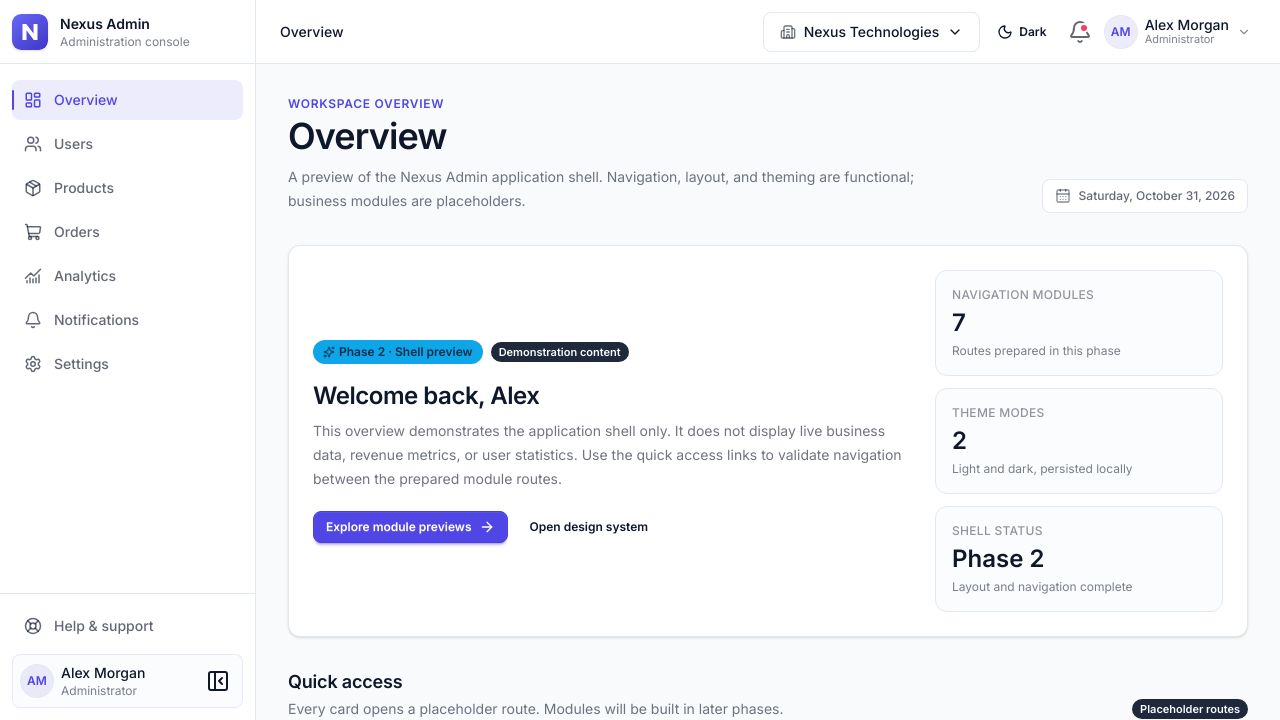
Scenario: DashboardLayout › collapses and expands the desktop sidebar
expect the heading "Overview" is shown: met, box [288,114,447,158]
expect the text "Administration console" is shown: met, box [60,34,190,50]
Click the button named "Collapse sidebar" at (218, 681), box [202,665,234,697]
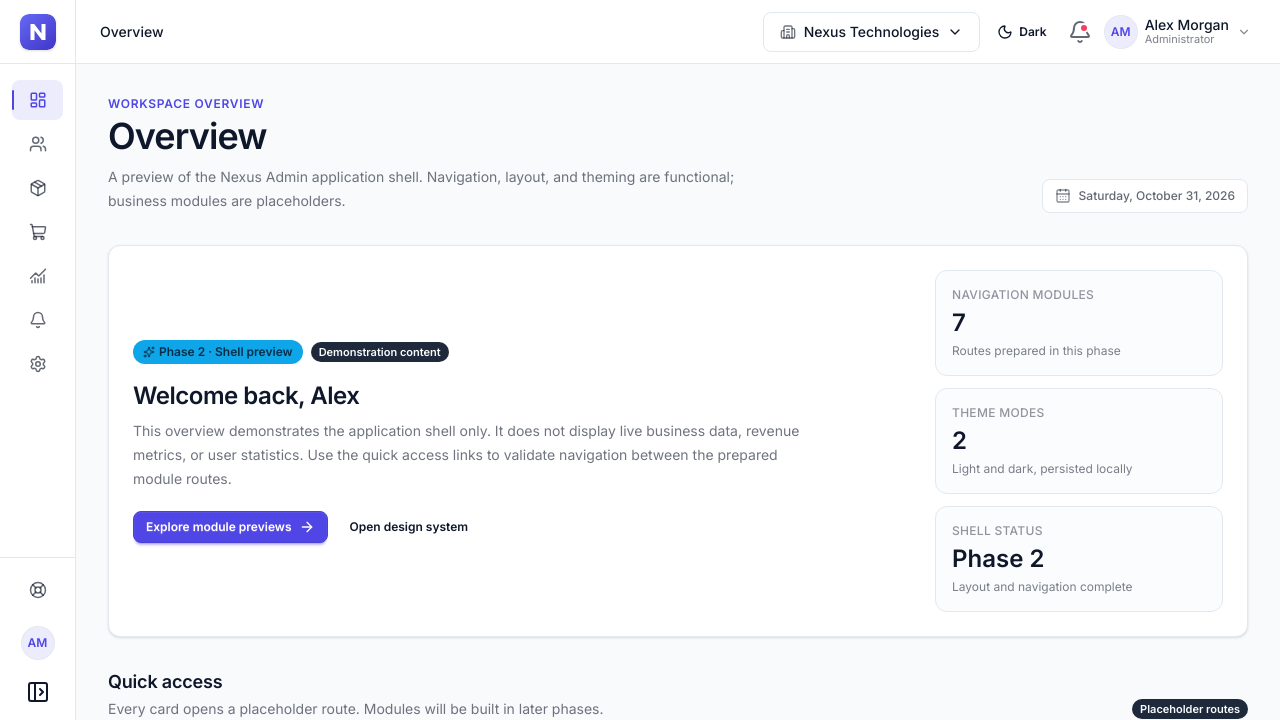
expect the button named "Expand sidebar" is shown: met
expect the text "Administration console" is gone: met
Click the button named "Expand sidebar" at (38, 692), box [12,676,63,708]
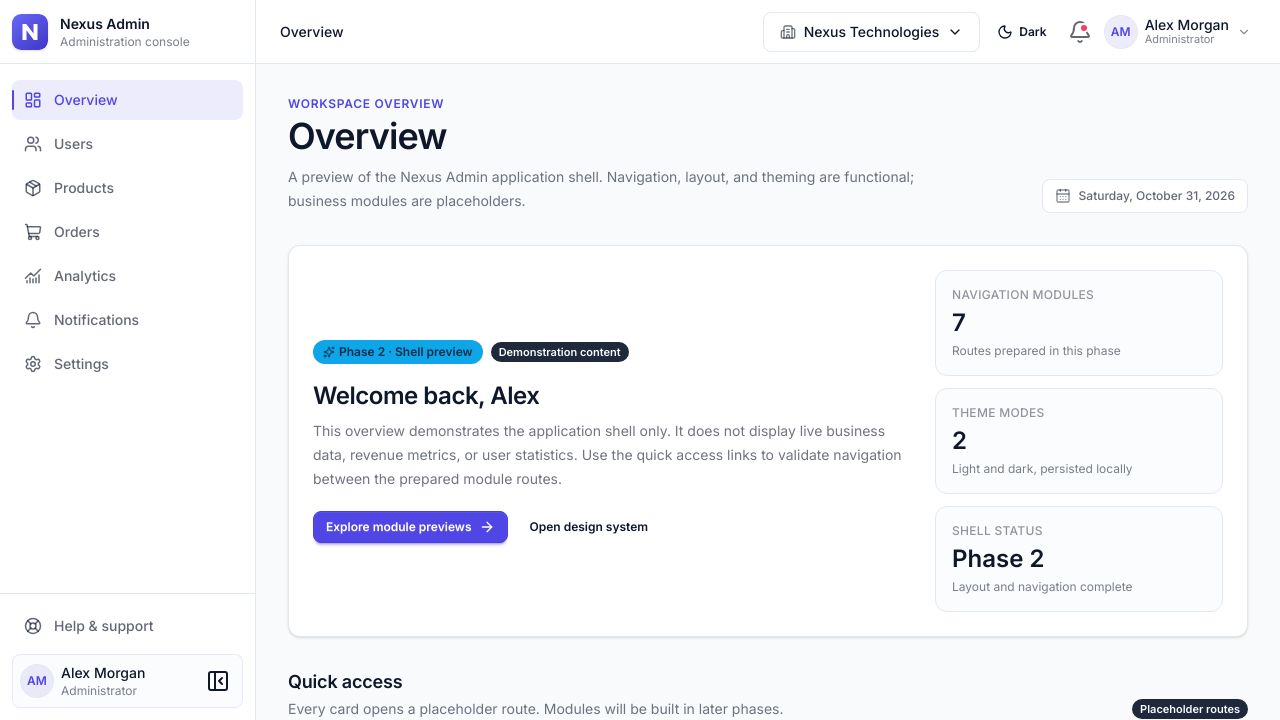
expect the button named "Collapse sidebar" is shown: met, box [202,665,234,697]
expect the text "Administration console" is shown: met, box [60,34,190,50]
